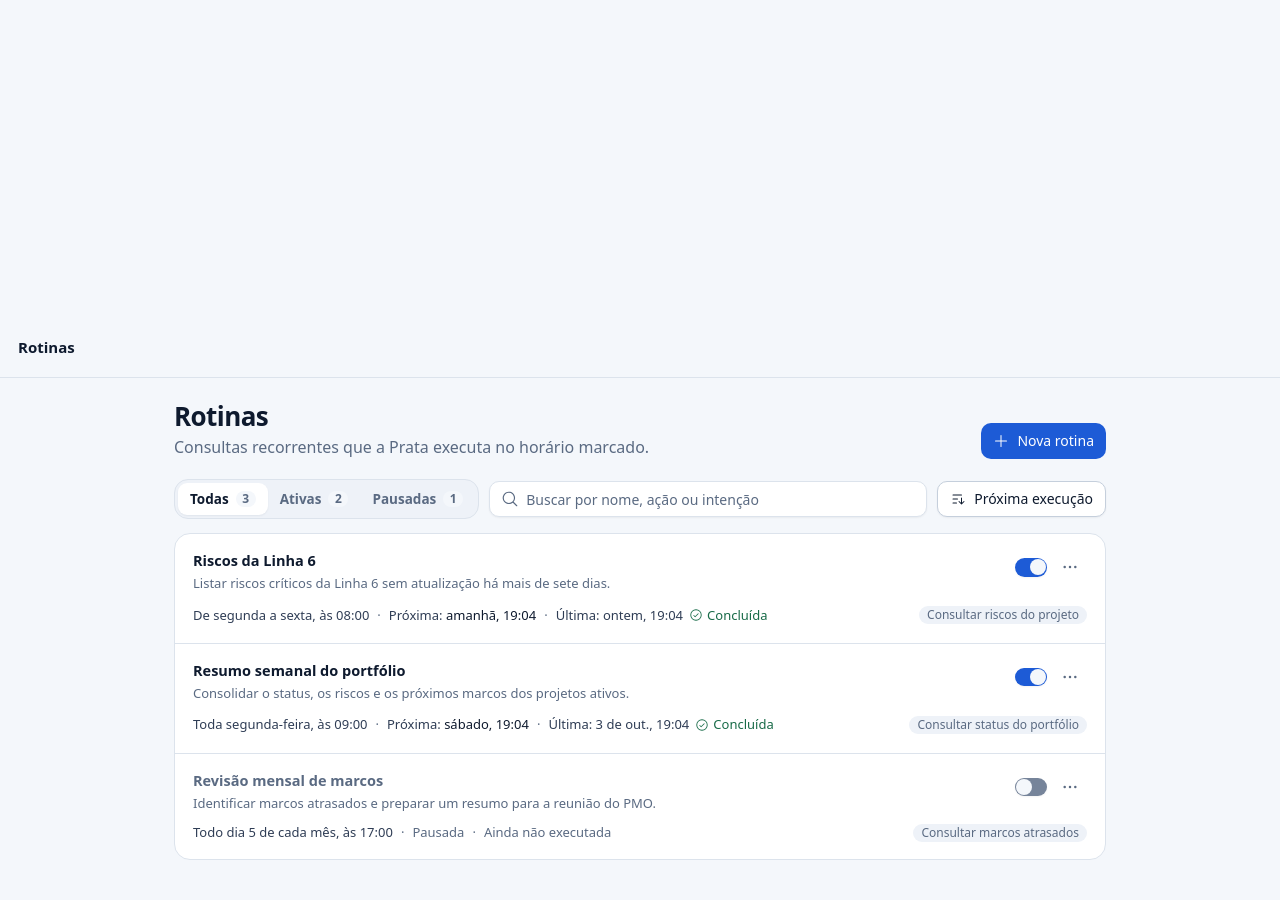
Test case: Página de rotinas › apresenta o status e o desfecho das execuções em frase
This screenshot has width=1280, height=900.
(page scrolled)
Step 1. Press Enter in the button named "Mais ações para ", box [1053,660,1087,694]
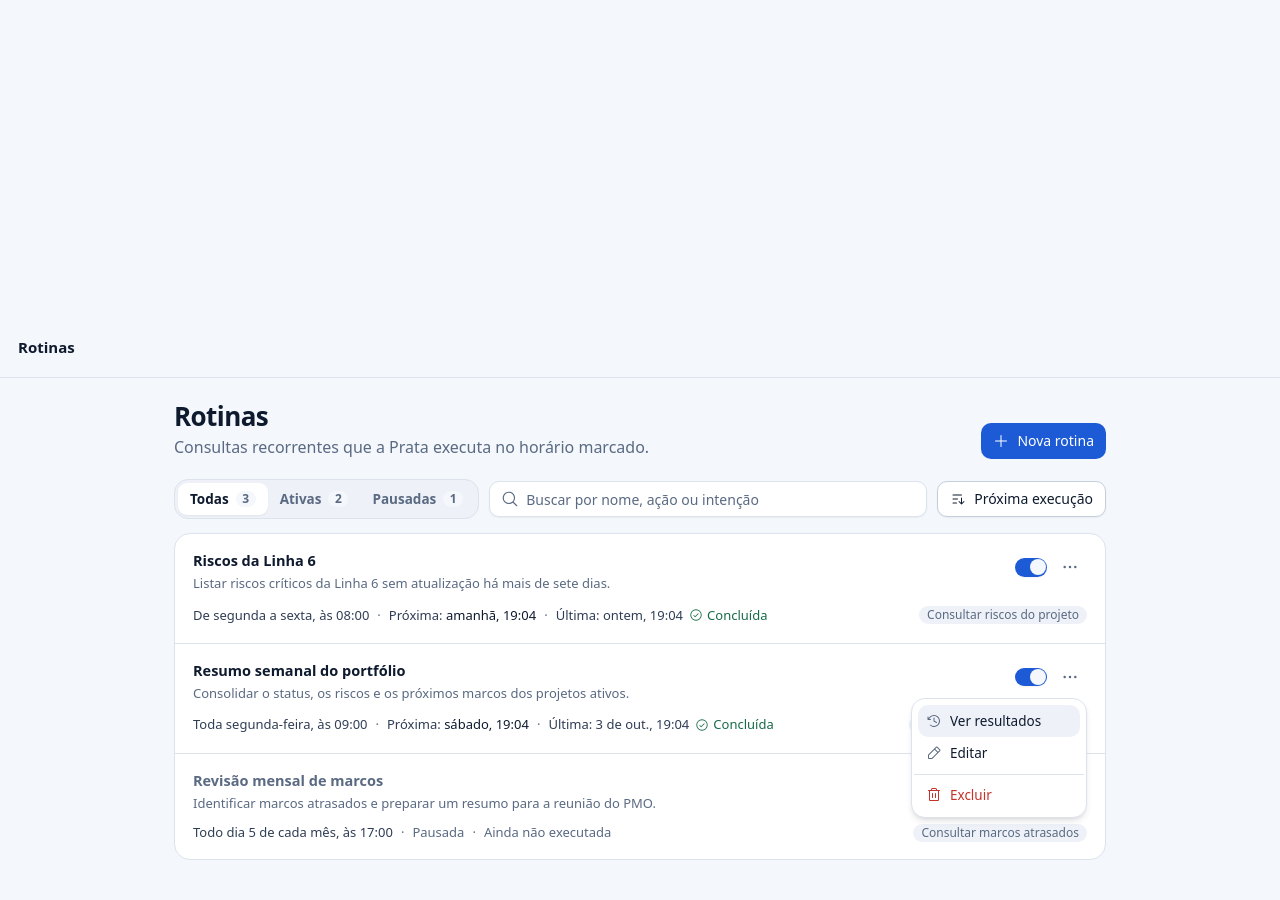
Step 2. Click the menu item "Ver resultados" → click(999, 721), box [918,705,1080,737]
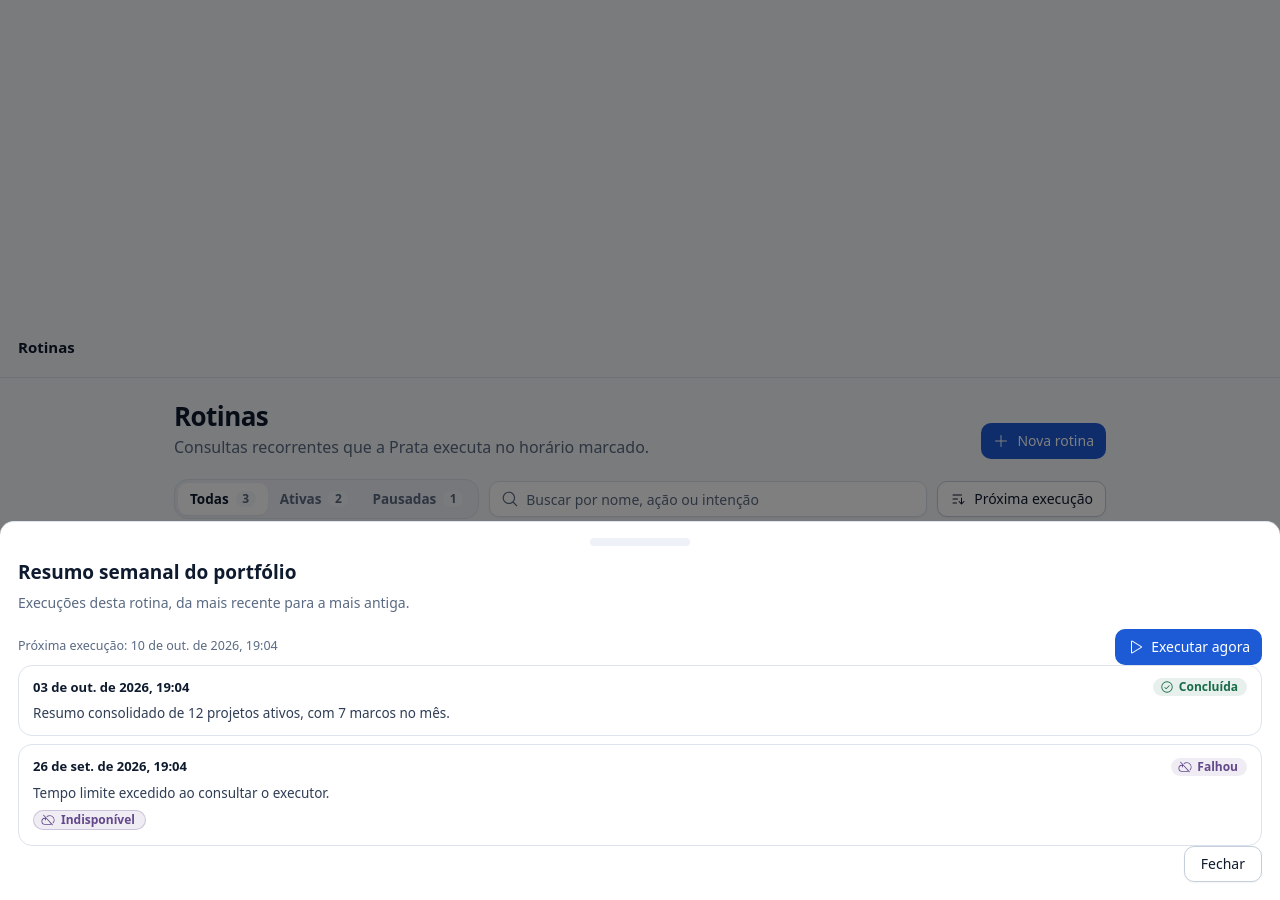
Now the text "Concluída" is shown, box [1153,678,1247,696]
Now the text "Falhou" is shown, box [1171,758,1247,776]
Now the text "Indisponível" is shown, box [33,810,146,830]
